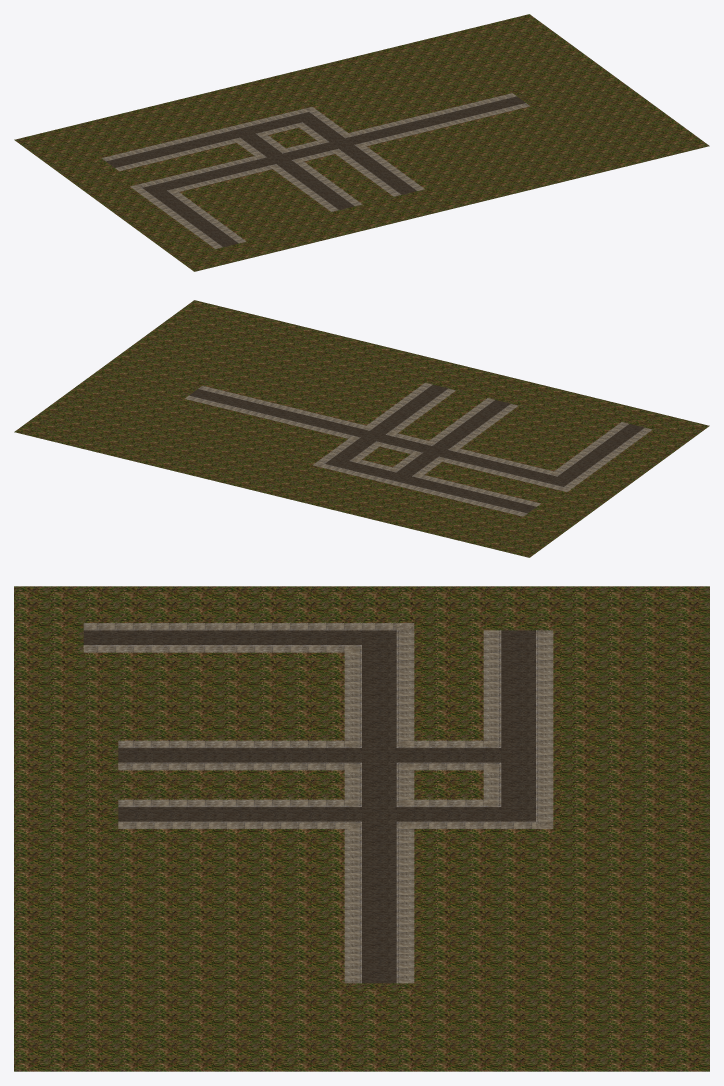
Rendered from IT-MapPlan.obj.
The picture shows the model from 3 angles, top to bottom: view 1: azimuth 30°, elevation 25°; view 2: azimuth 150°, elevation 25°; view 3: azimuth 270°, elevation 25°; orthographic projection. The views are drawn at different scales.
Parts seen in each view (by area): view 1: Plane; view 2: Plane; view 3: Plane.
Part boxes in pixels (<box>): Plane: <box>14,14,709,271</box>; Plane: <box>14,300,709,557</box>; Plane: <box>14,586,709,1071</box>.
Bounding box in the file's own units: 16.5 × 0 × 10.
8 materials, 8 textured.
